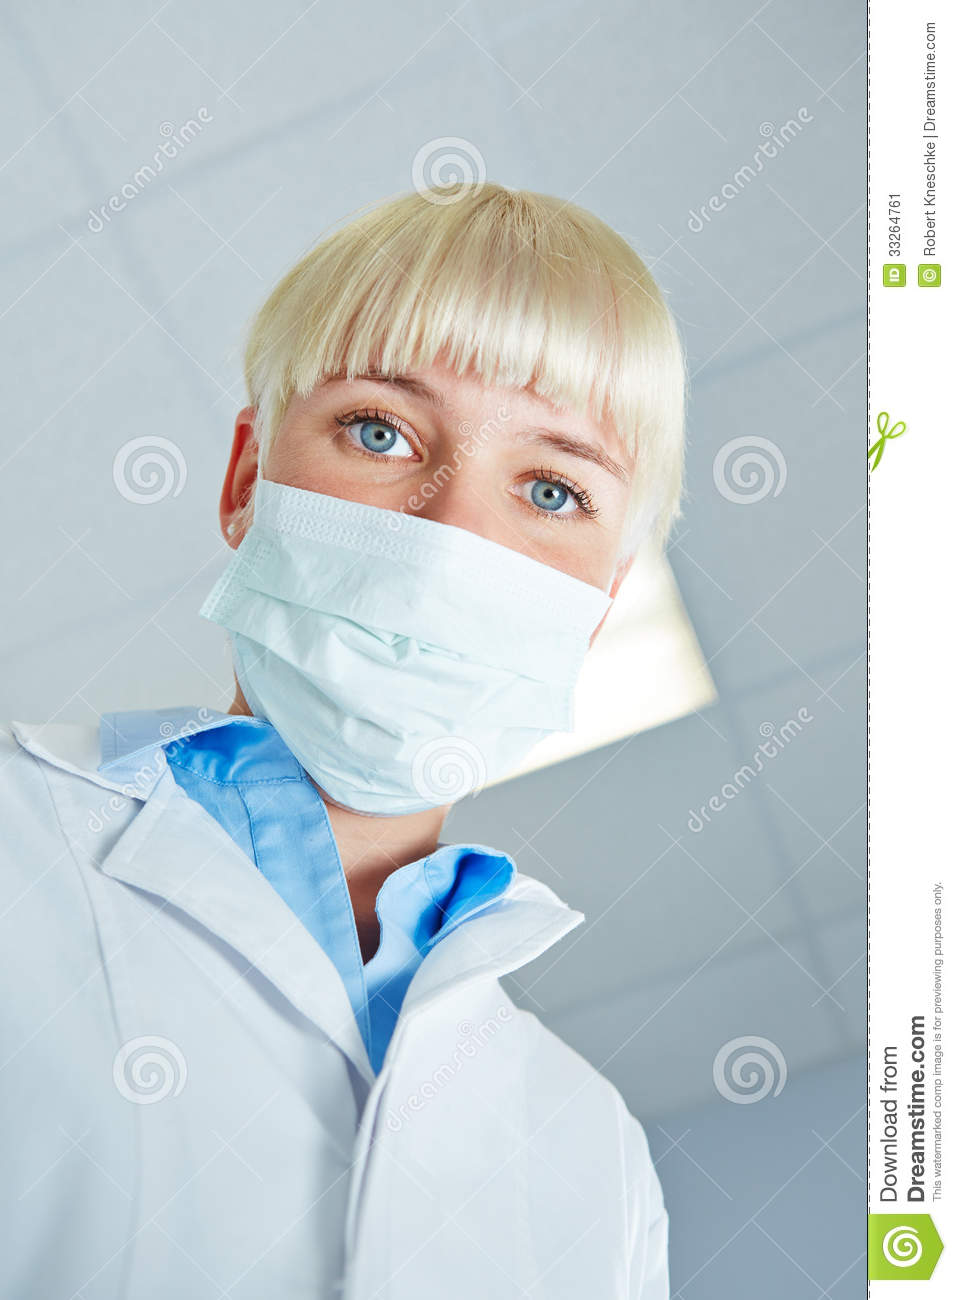mask: (240, 513, 626, 849)
